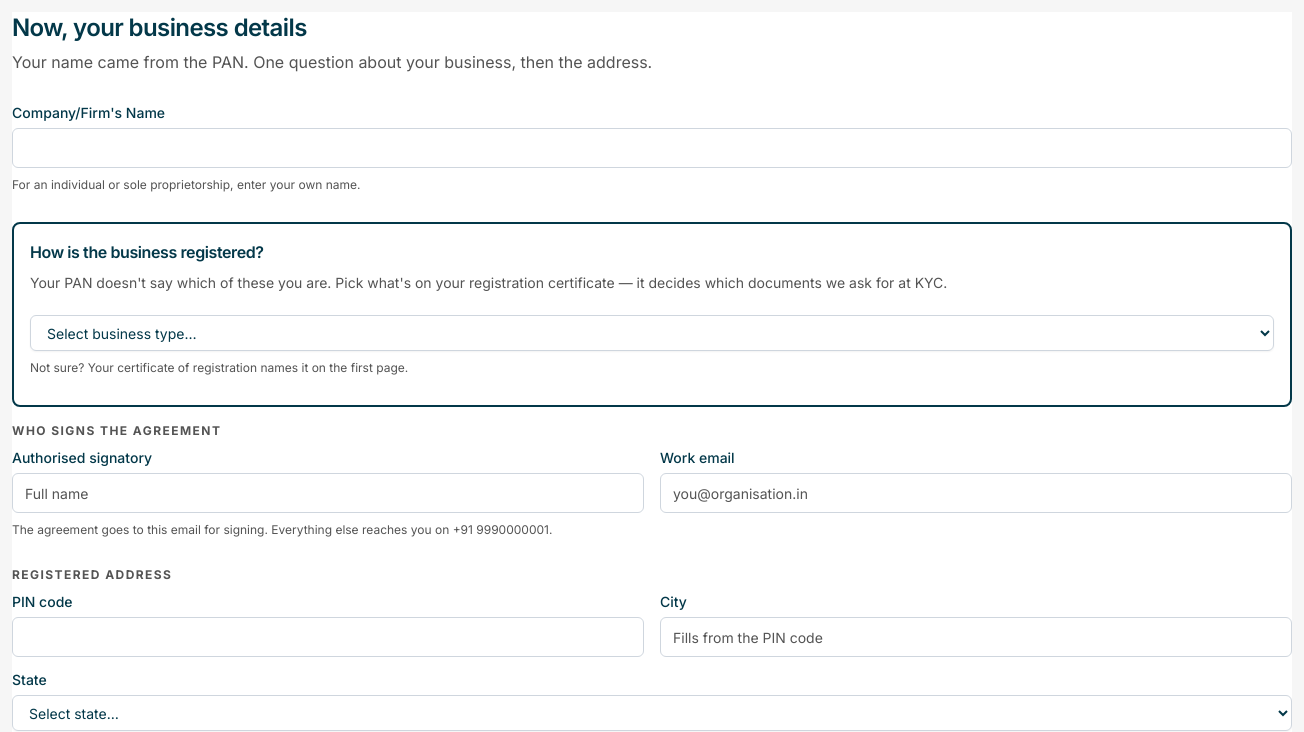
Test: BusinessStep PIN code lookup › resolves a state name upstream spells differently
The width and height of the screenshot is (1304, 732).
Step 1. Type "110001" into the field labelled "PIN code" → [328, 637], box x1=12 y1=617 x2=644 y2=657
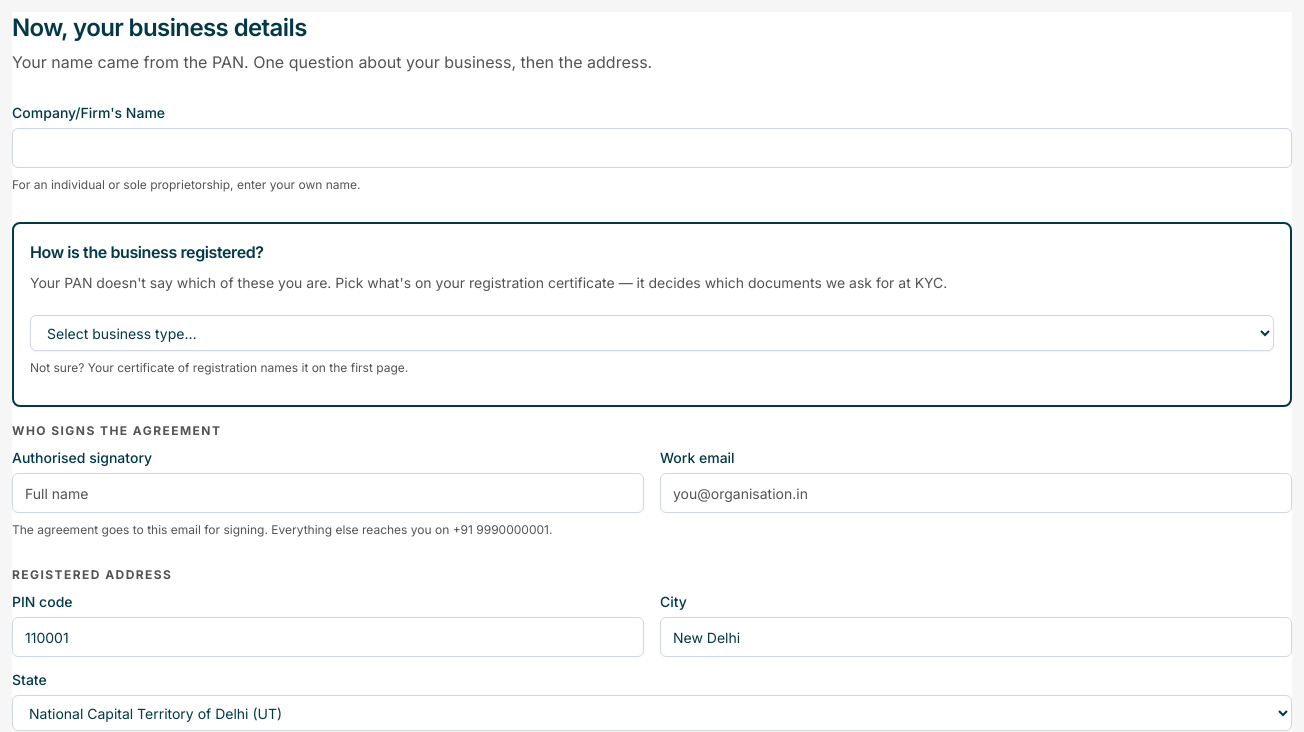
Now the dropdown labelled "State" shows "National Capital Territory of Delhi (UT)", box x1=12 y1=695 x2=1292 y2=731
